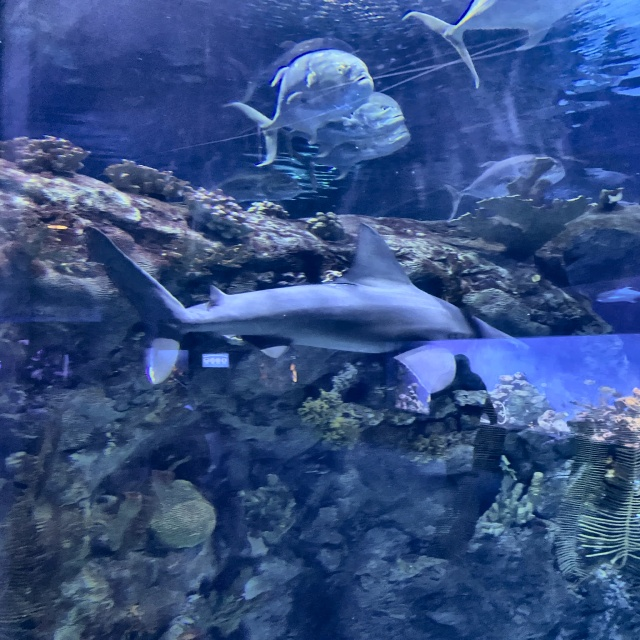fish: (400, 0, 592, 89), (231, 50, 372, 167), (446, 154, 561, 222), (305, 92, 411, 159), (597, 286, 639, 304)
shark: (85, 221, 530, 386)
